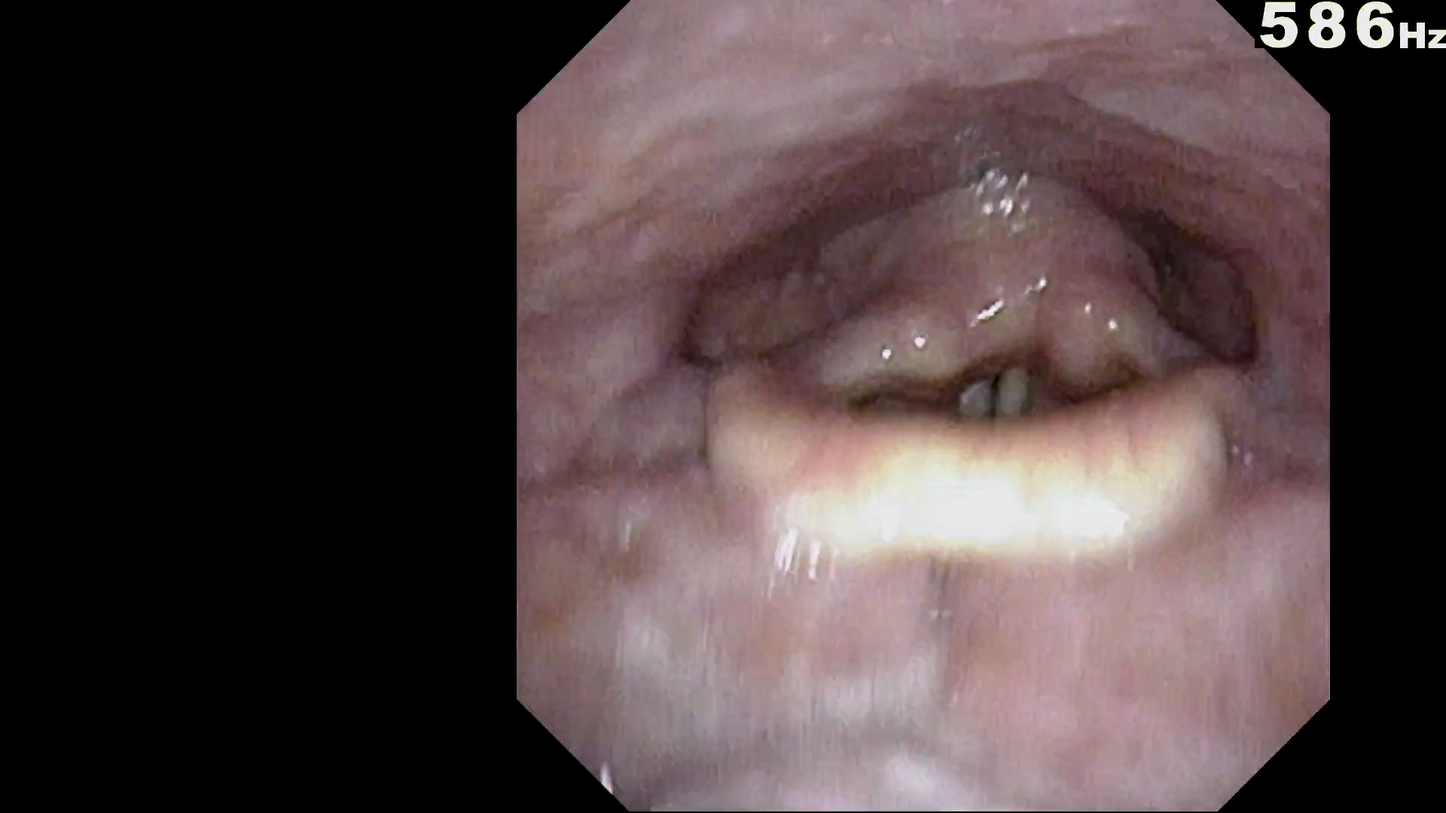epiglottis: (736, 361, 1213, 528)
